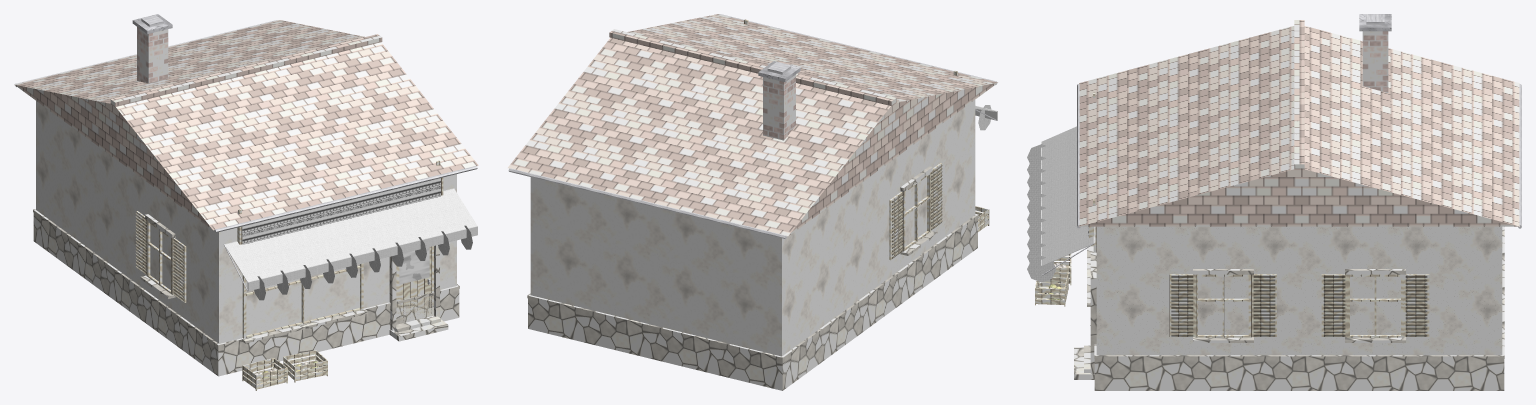
File: negozio_esterno.obj
3 renders of one model, left to right at view 1: azimuth 30°, elevation 25°; view 2: azimuth 150°, elevation 25°; view 3: azimuth 270°, elevation 25°, orthographic. The views are drawn at different scales.
Visible parts, largest first — view 1: tegole_002, intonaco_000, pietra_001, tessuto_009, tessuto_010, stampa_a_008, mattone_004, metallo_003, legno_031, legno_011, legno_018, legno_032 (+7 smaller); view 2: tegole_002, intonaco_000, pietra_001, mattone_004, metallo_003, legno_031, legno_029, pietra_030; view 3: tegole_002, intonaco_000, pietra_001, tessuto_010, tessuto_009, legno_027, legno_023, mattone_004, legno_021, legno_025, metallo_003, legno_054 (+4 smaller).
Part boxes in pixels (x1,y1,x2,y2): tegole_002: (14, 20, 478, 230); intonaco_000: (36, 101, 456, 343); pietra_001: (33, 209, 459, 376); tessuto_009: (224, 198, 454, 300); tessuto_010: (250, 188, 477, 294); stampa_a_008: (242, 178, 440, 244); mattone_004: (137, 27, 168, 83); metallo_003: (15, 20, 477, 232); legno_031: (135, 211, 186, 302); legno_011: (396, 246, 433, 323); legno_018: (242, 263, 363, 338); legno_032: (242, 358, 287, 389); tegole_002: (508, 14, 997, 236); intonaco_000: (530, 100, 975, 356); pietra_001: (527, 214, 978, 390); mattone_004: (763, 74, 795, 140); metallo_003: (508, 14, 996, 238); legno_031: (889, 163, 942, 260); legno_029: (903, 172, 930, 251); pietra_030: (900, 166, 937, 255); tegole_002: (1079, 20, 1519, 226); intonaco_000: (1096, 226, 1502, 355); pietra_001: (1094, 226, 1504, 390); tessuto_010: (1027, 139, 1095, 282); tessuto_009: (1027, 126, 1095, 262); legno_027: (1321, 274, 1429, 336); legno_023: (1169, 274, 1276, 336); mattone_004: (1362, 31, 1388, 92); legno_021: (1195, 274, 1251, 337); legno_025: (1347, 274, 1403, 337); metallo_003: (1077, 84, 1521, 228); legno_054: (1035, 272, 1068, 304).
Size of the model in its own units: 6.74 by 6 by 9.77.
29 materials, 29 textured.
